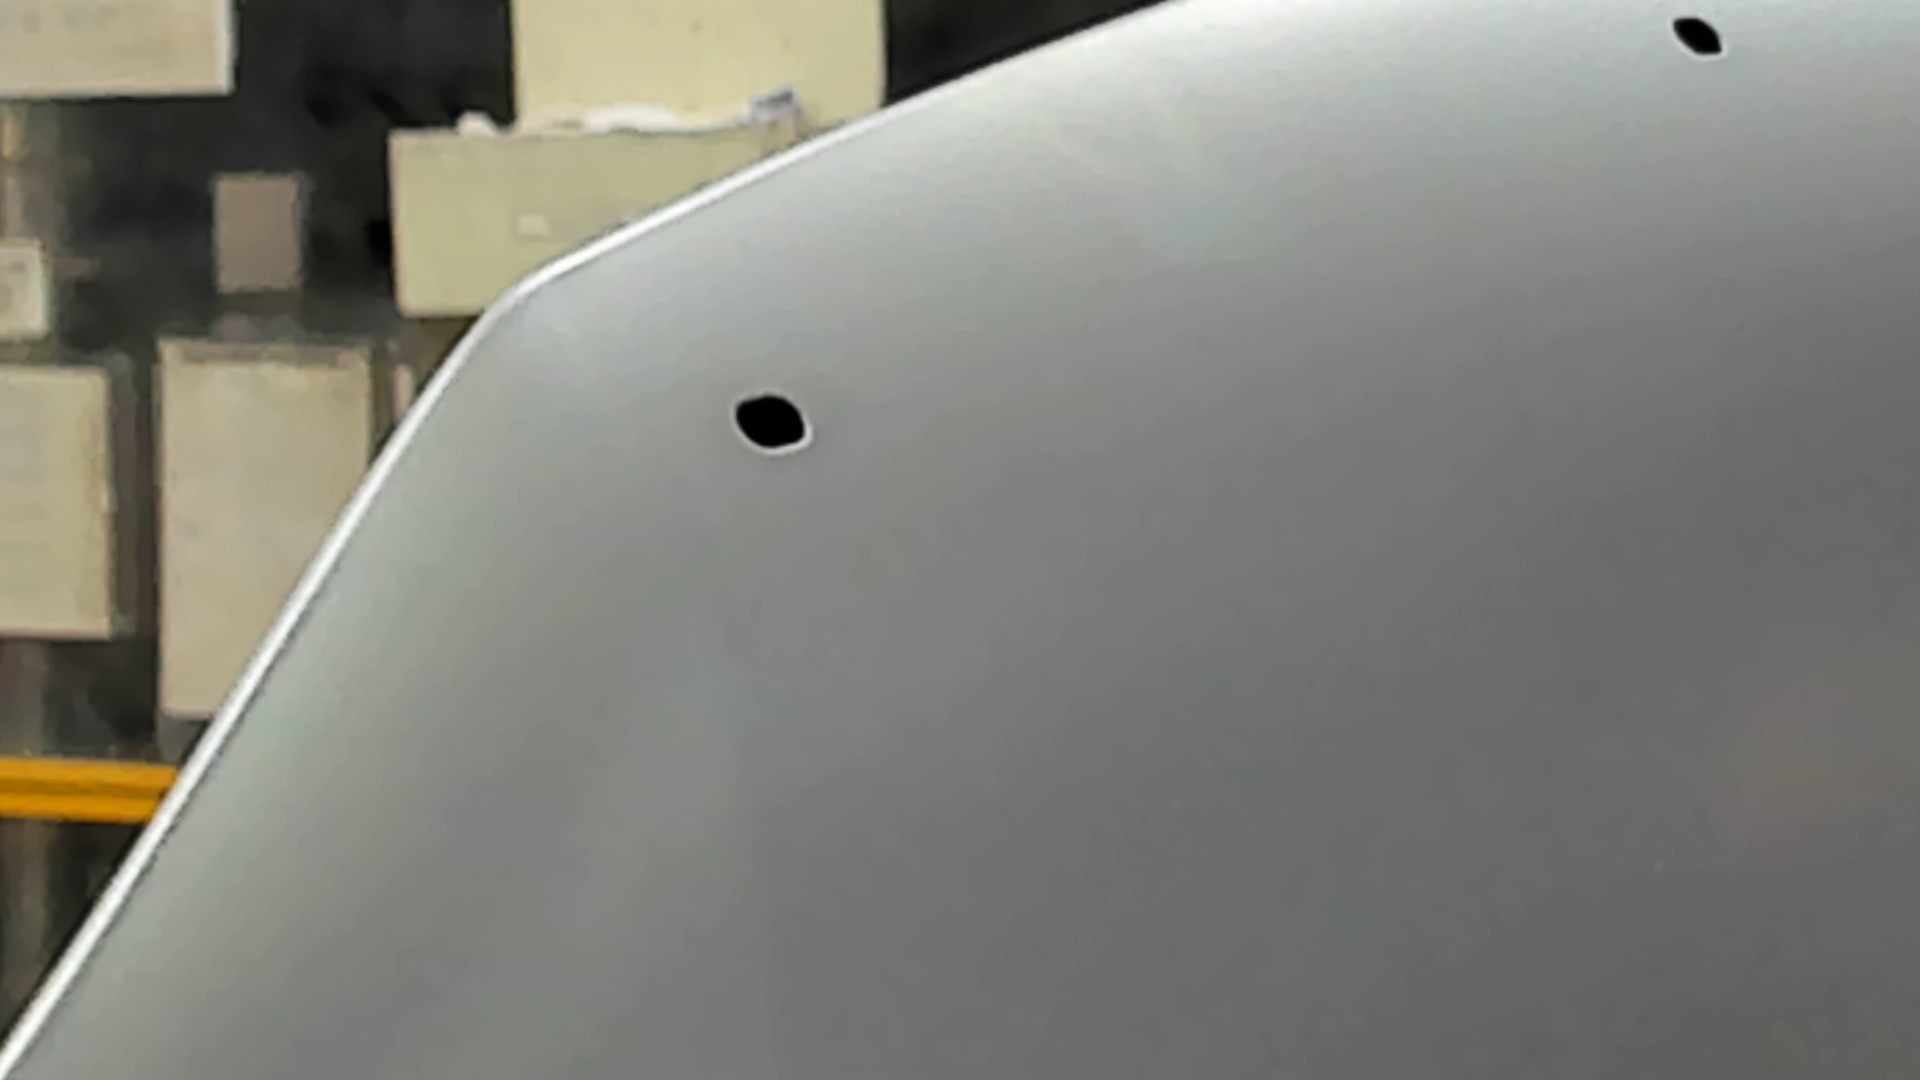amorfo: (731, 386, 816, 463), (1659, 11, 1730, 63)
